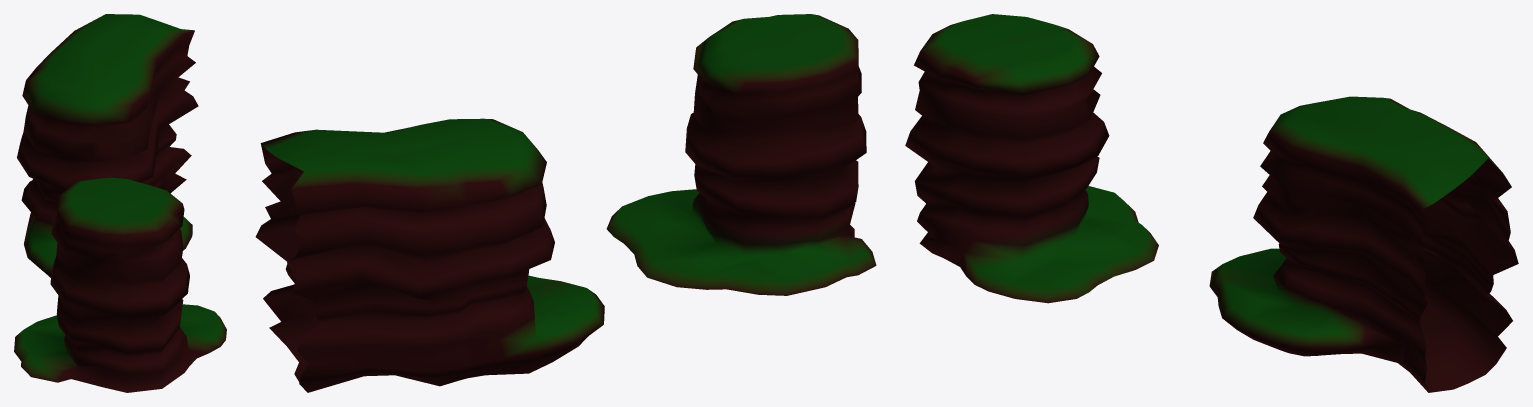
The model's file is ST No Pillar Collision.fbx.
3 renders of one model, left to right at view 1: azimuth 30°, elevation 25°; view 2: azimuth 150°, elevation 25°; view 3: azimuth 270°, elevation 25°, orthographic. The views are drawn at different scales.
Visible parts, largest first — view 1: CeP No Pillar, EC No Pillar; view 2: EC No Pillar, CeP No Pillar; view 3: EC No Pillar, CeP No Pillar.
Part boxes in pixels (x1,y1,x2,y2): CeP No Pillar: (14,177,226,392); EC No Pillar: (17,14,198,277); EC No Pillar: (255,118,604,392); CeP No Pillar: (606,14,876,295); EC No Pillar: (1209,96,1518,392); CeP No Pillar: (905,14,1158,303).
Bounding box in the file's own units: 4315 × 2316 × 5653.
